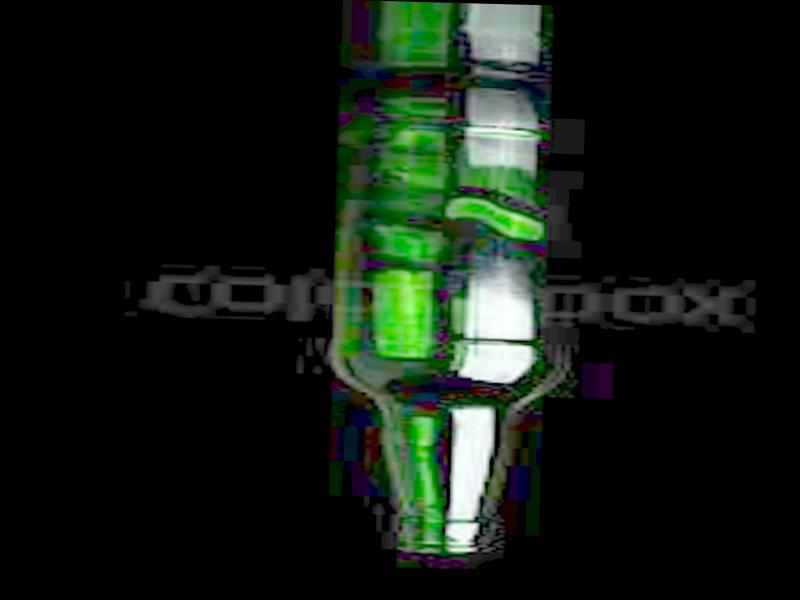Beer: (324, 120, 541, 554)
